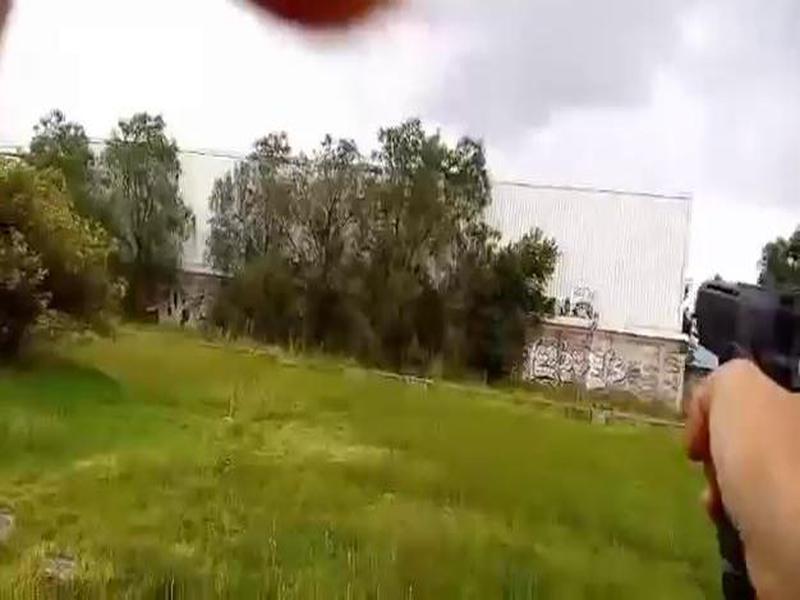Pistola: (672, 245, 800, 479)
